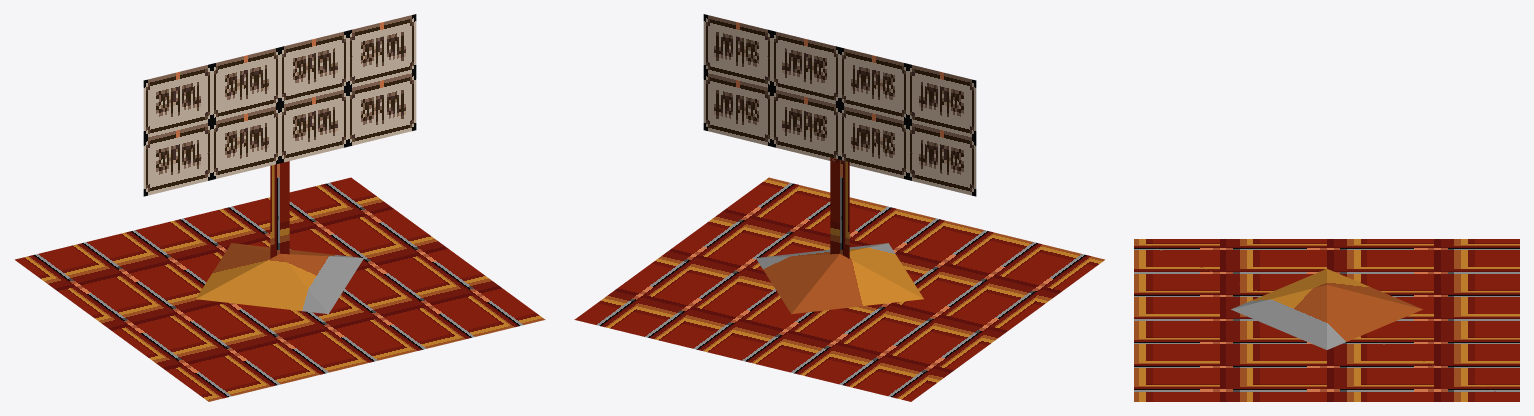
The model's file is 3747soldout_s.gltf.
The picture shows the model from 3 angles, left to right: view 1: azimuth 30°, elevation 25°; view 2: azimuth 150°, elevation 25°; view 3: azimuth 270°, elevation 25°; orthographic projection.
Visible parts, largest first — view 1: 3747soldout_s; view 2: 3747soldout_s; view 3: 3747soldout_s.
Boxes of the visible parts, left/top/right/bottom form: 3747soldout_s: left=15, top=14, right=545, bottom=401; 3747soldout_s: left=574, top=14, right=1104, bottom=401; 3747soldout_s: left=1134, top=239, right=1519, bottom=401.
Size of the model in its own units: 1 by 0.688 by 1.
Materials: 2 (2 with a texture image).
